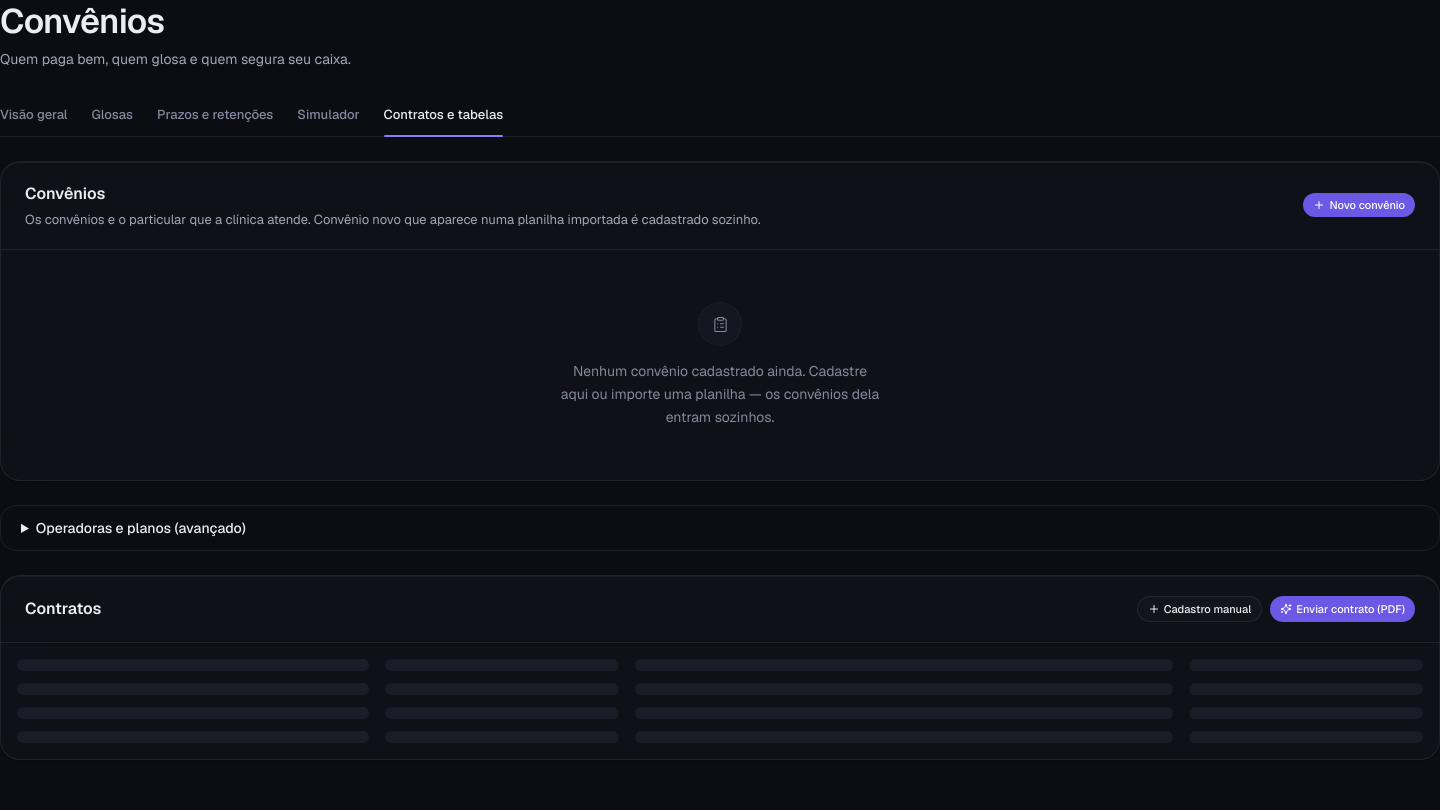
Test: ContractsPage — plan_type (Onda 3 do Plano de Ação) › Novo convênio: um formulário só, sem registro ANS para particular (UX-07)
Step 1. Click the button "Novo convênio" → (1359, 205), box [1304,193,1415,217]
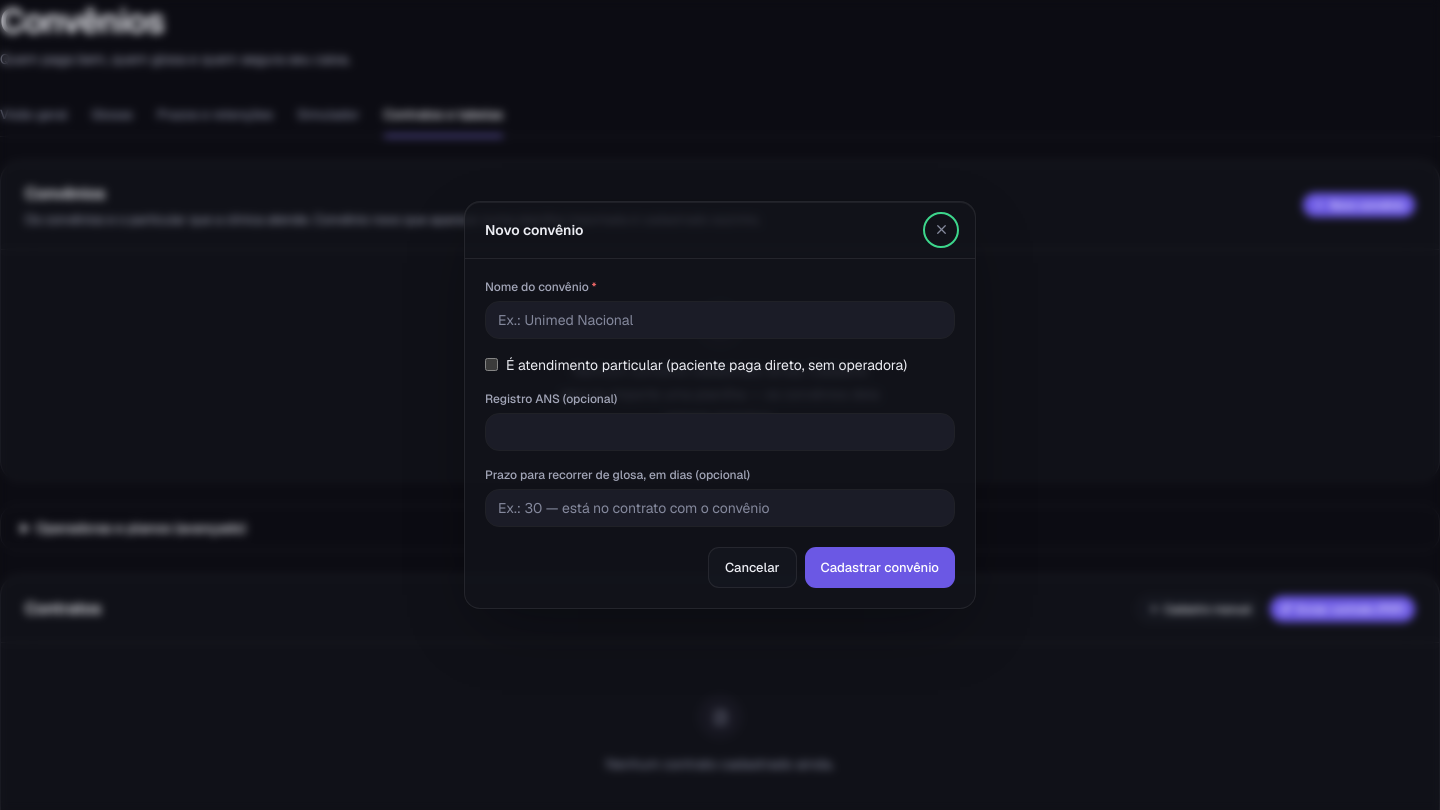
Step 2. Click the checkbox labelled "particular" → (492, 365), box [485,358,498,371]
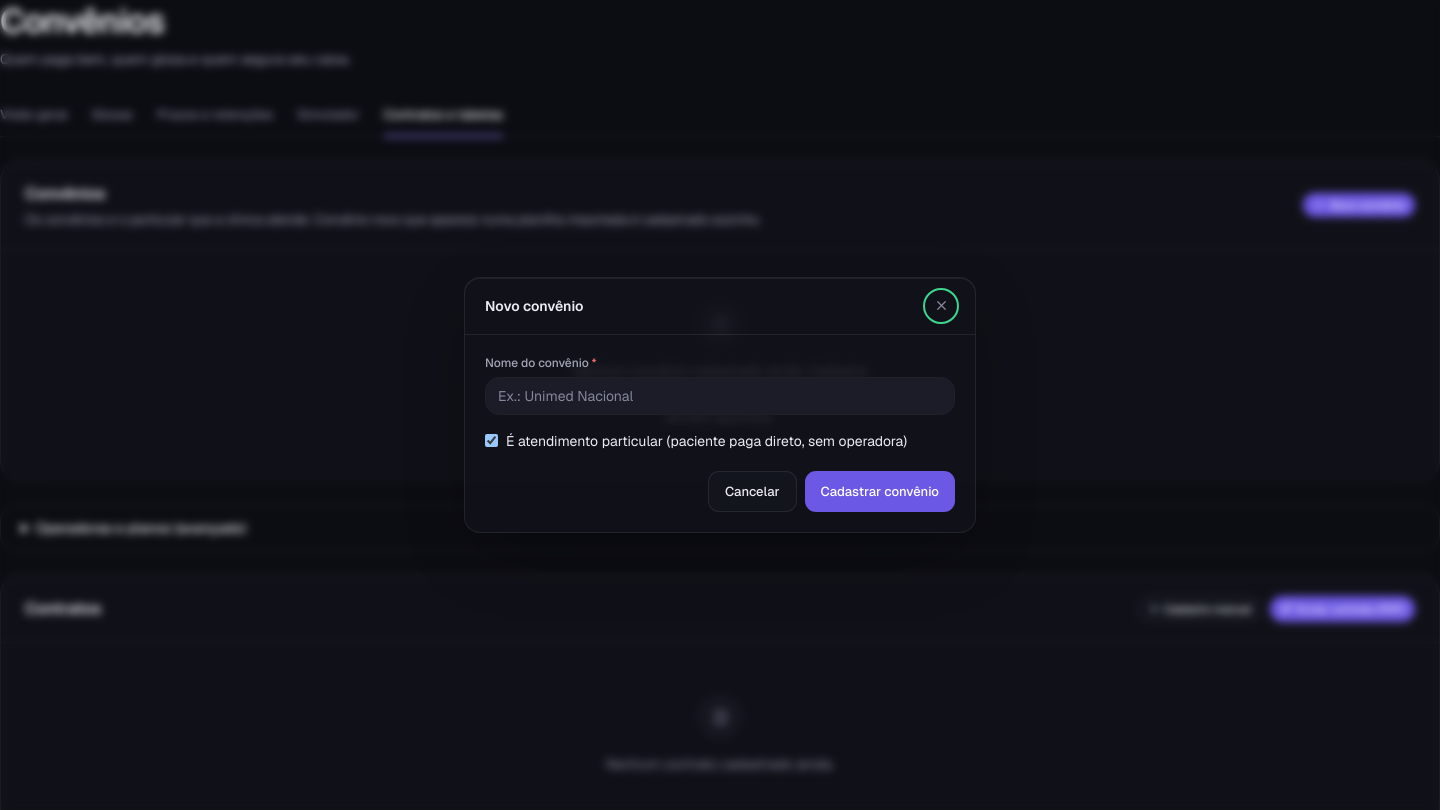
Now the label labelled "Registro ANS" is gone
Step 3. Click the checkbox labelled "particular" → (492, 441), box [485,434,498,447]
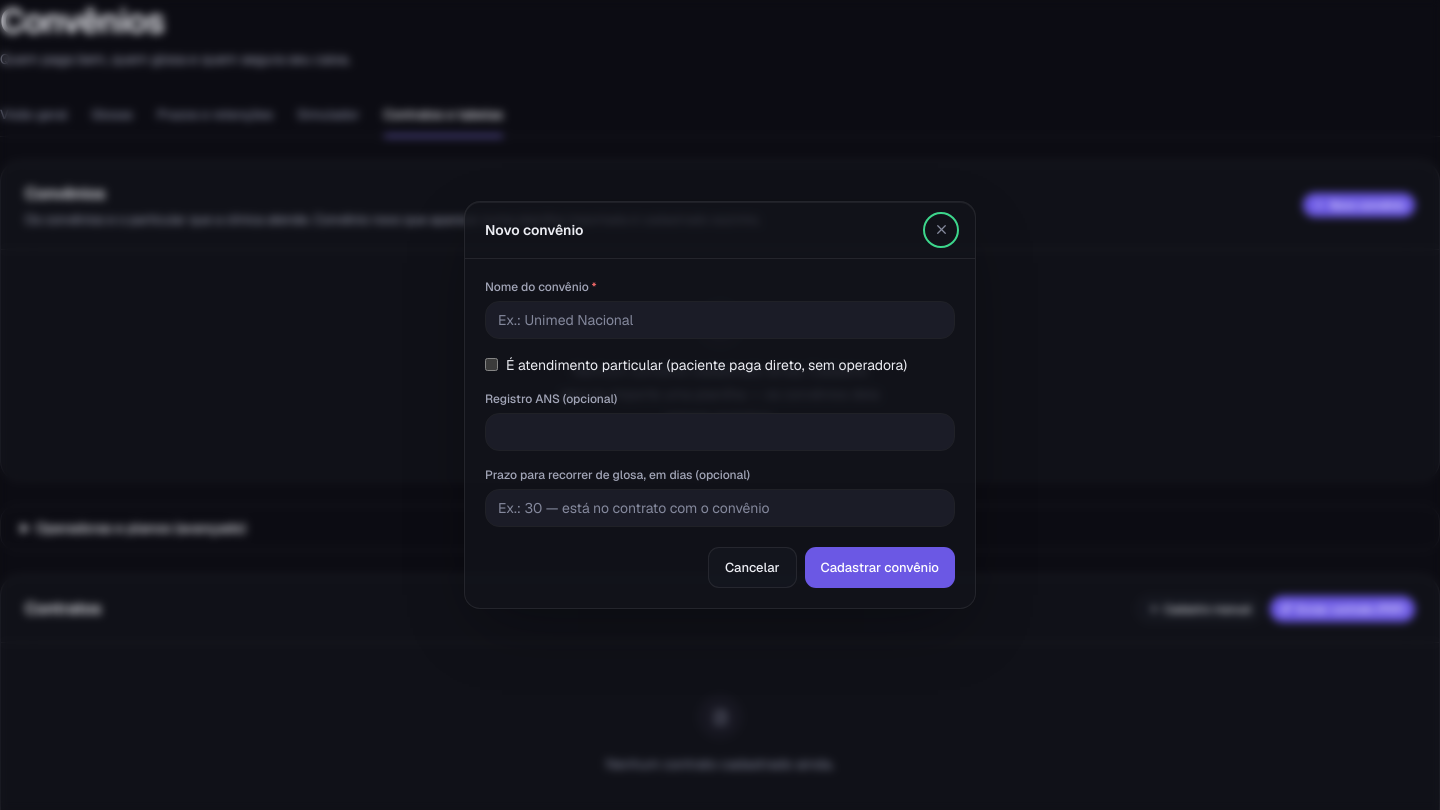
Step 4. Type "Unimed Nacional" into the field labelled "Nome do convênio *" → (720, 320), box [485,301,955,339]
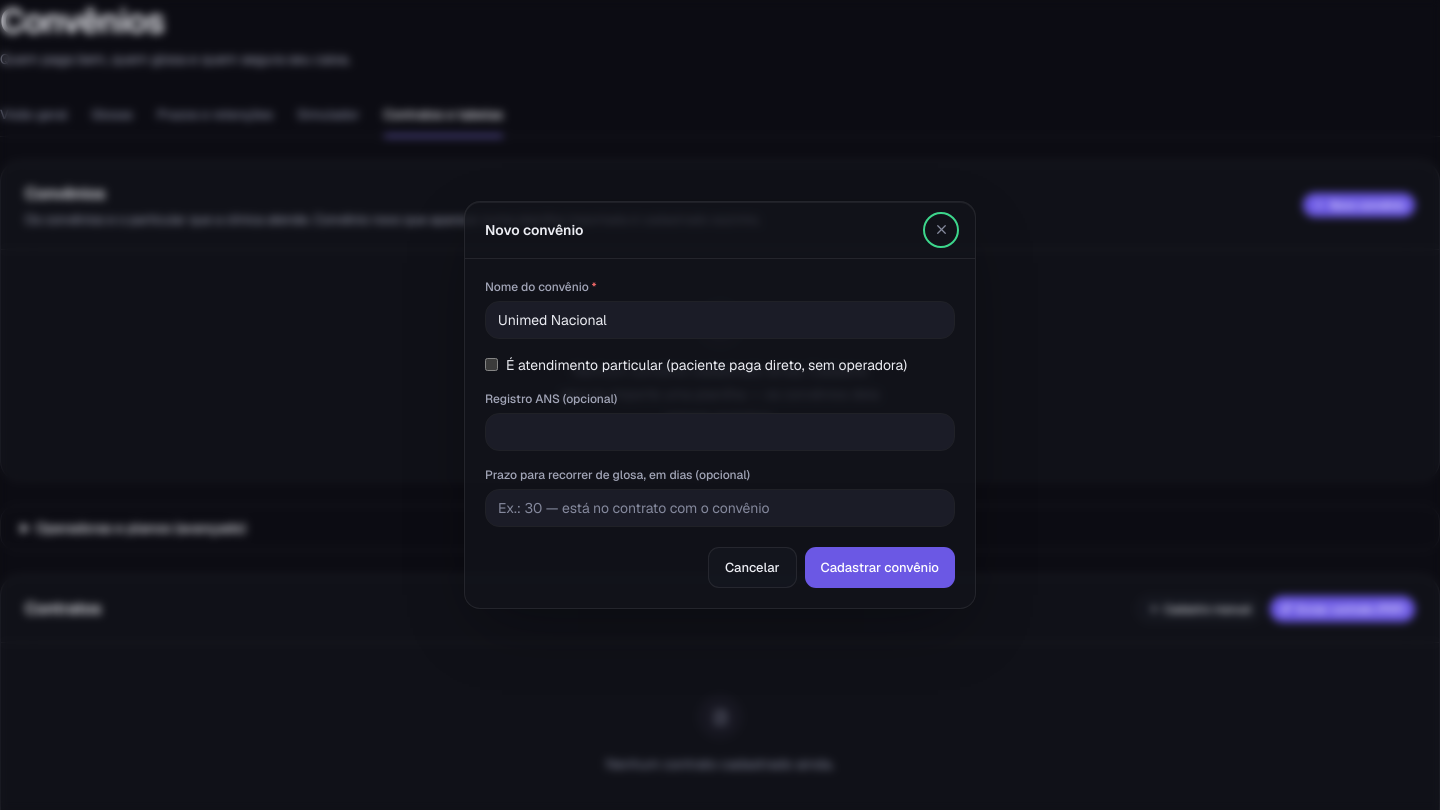
Step 5. Click the button "Cadastrar convênio" → (880, 568), box [805,547,955,588]
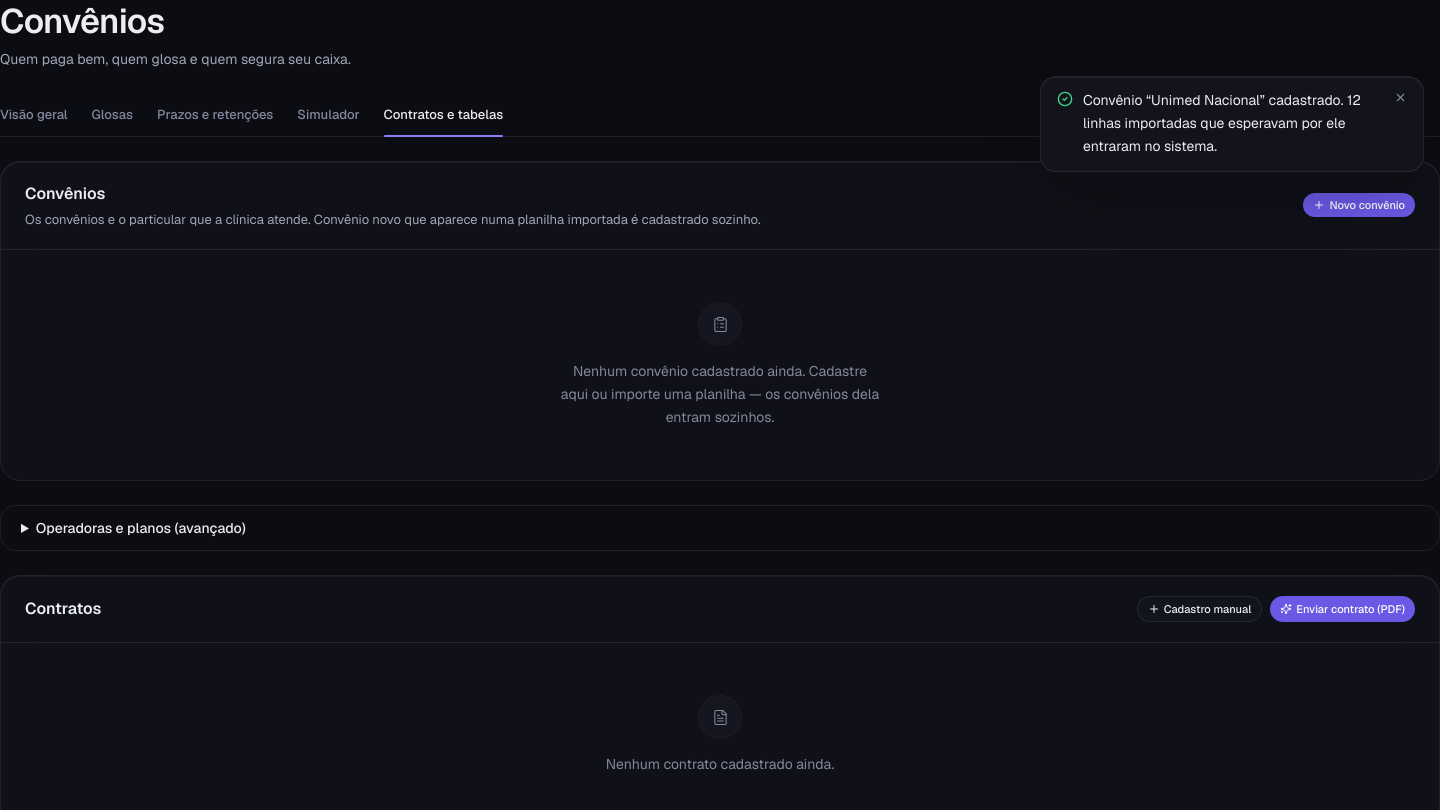
Now the text "12 linhas importadas que esperavam por ele entraram" is shown, box [1083,91,1361,154]
